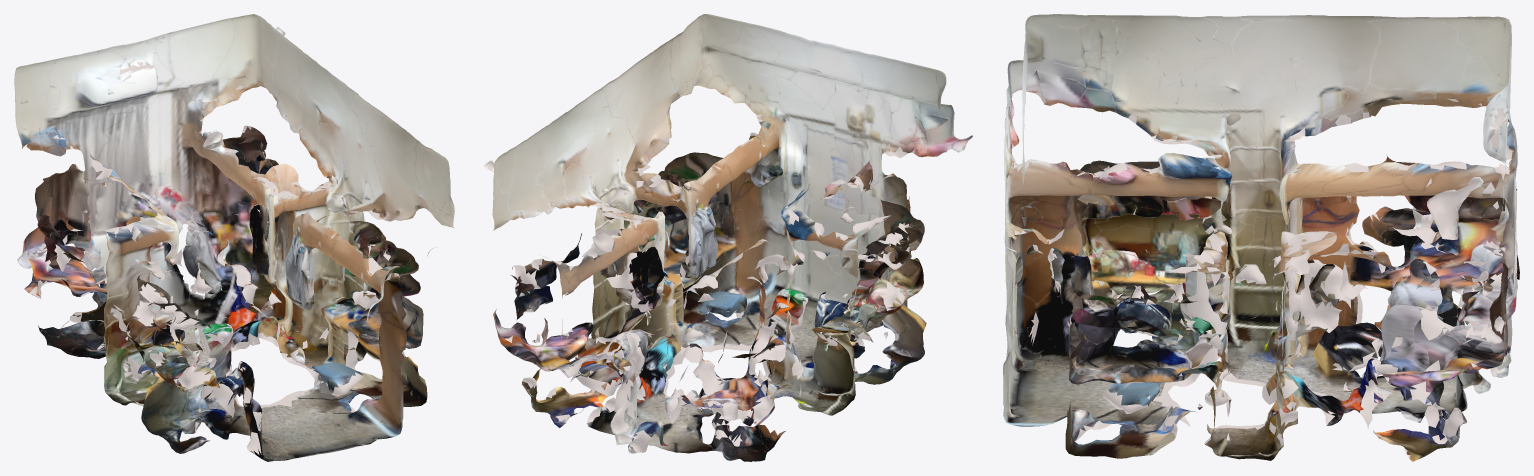
The model's file is MAP_BNB1O6T66PGY.glb.
3 renders of one model, left to right at view 1: azimuth 30°, elevation 25°; view 2: azimuth 150°, elevation 25°; view 3: azimuth 270°, elevation 25°, orthographic. The views are drawn at different scales.
Visible parts, largest first — view 1: TexturedMesh.obj; view 2: TexturedMesh.obj; view 3: TexturedMesh.obj.
Part boxes in pixels (x1=…): TexturedMesh.obj: x1=14, y1=14, x2=454, y2=461; TexturedMesh.obj: x1=484, y1=14, x2=972, y2=461; TexturedMesh.obj: x1=1003, y1=14, x2=1519, y2=461.
Size of the model in its own units: 3.78 by 3.5 by 5.08.
Materials: 1 (1 with a texture image).
